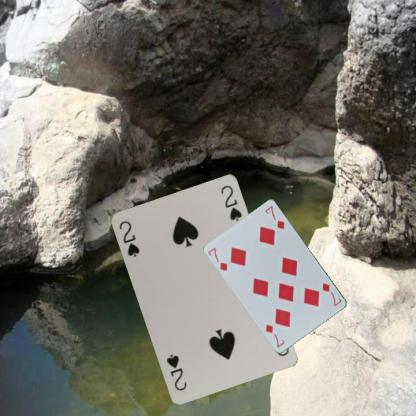2s: (116, 218, 141, 258)
7d: (320, 280, 343, 308), (206, 245, 228, 272)
